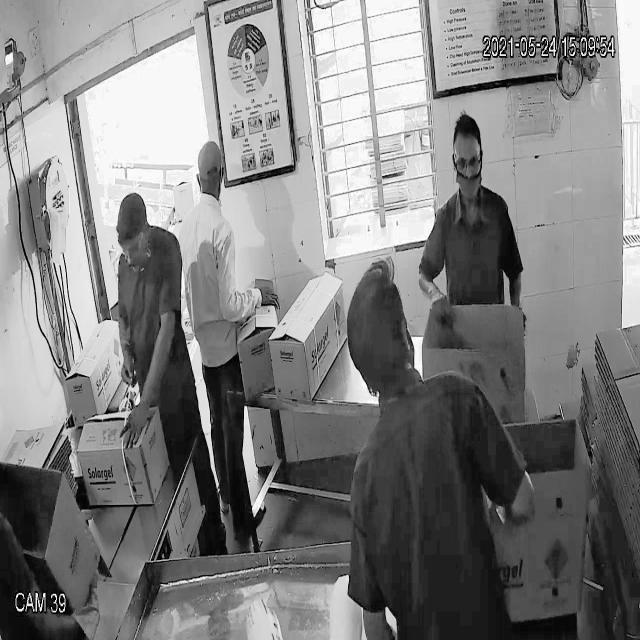glasses: (448, 146, 483, 177), (114, 232, 148, 260)
